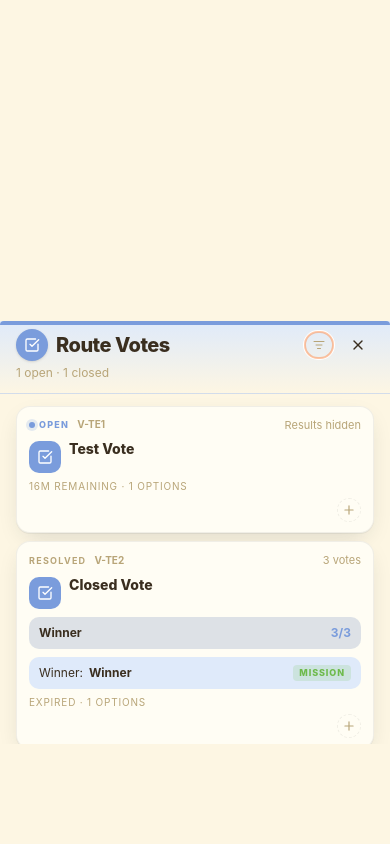
RouteVotePanel › hides Post as anonymous checkbox when Private is checked
Click the text "Test Vote". click: point(102, 449)
box: [69,439,134,458]
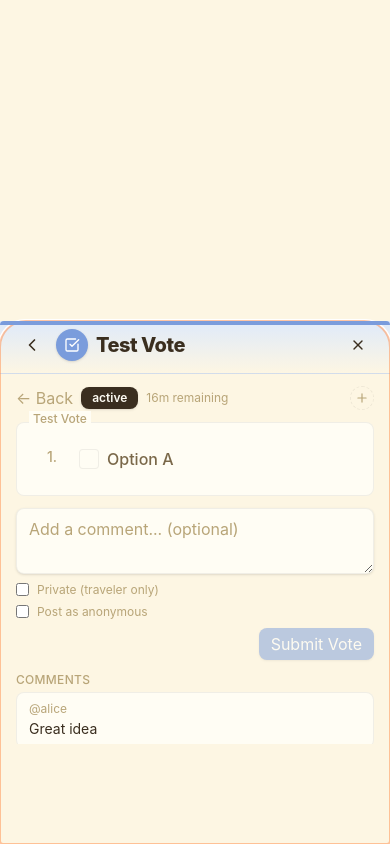
Click the checkbox labelled "Private (traveler only)". click: point(22, 590)
box: [16,583,29,596]
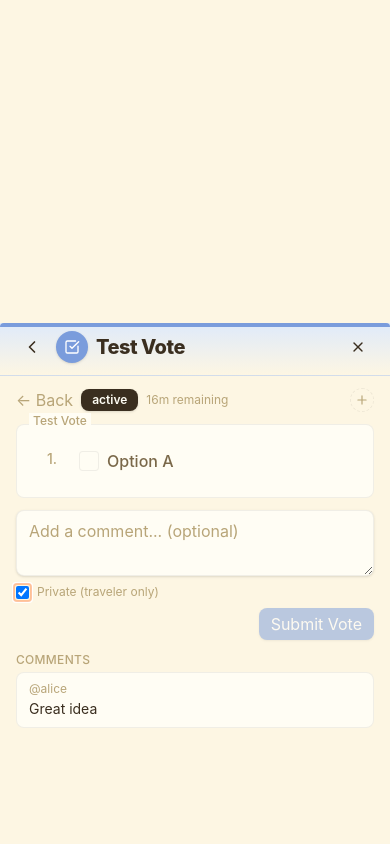
Now the label "Post as anonymous" is gone
